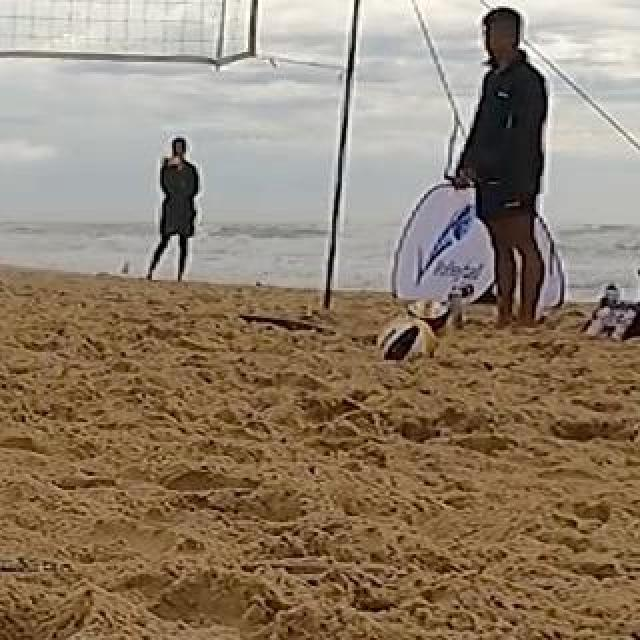volleyball: (377, 319, 439, 369), (402, 298, 454, 346)
